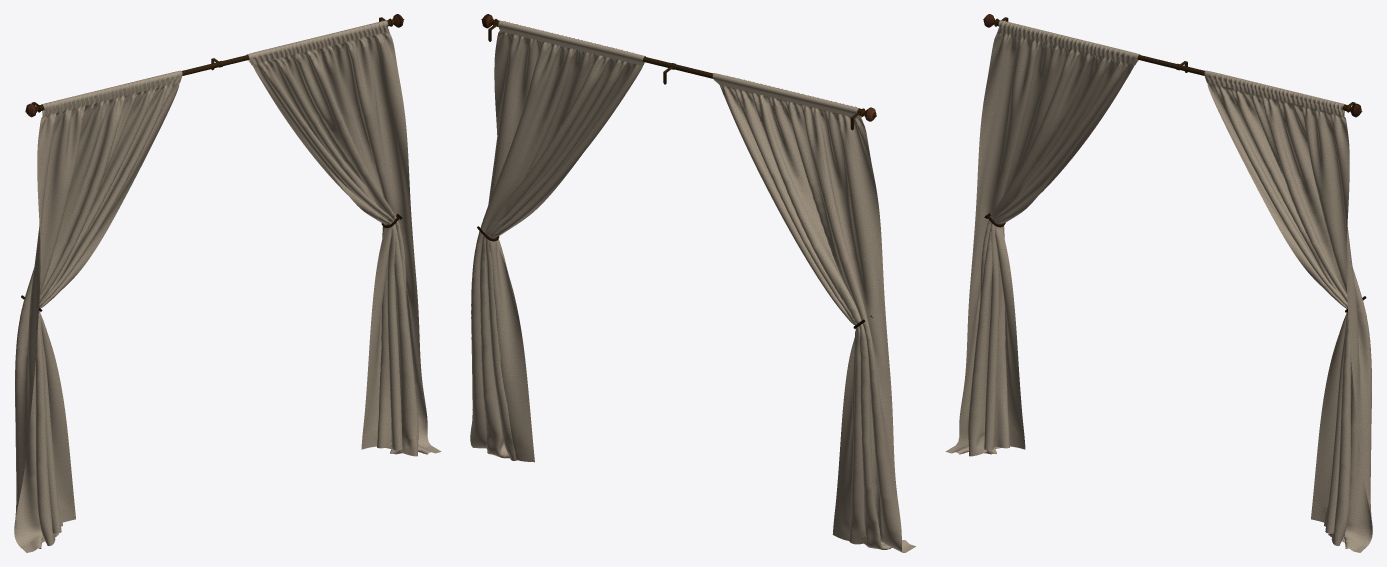
File: curtains.glb
3 views of the same model, side by side, from view 1: azimuth 30°, elevation 25°; view 2: azimuth 150°, elevation 25°; view 3: azimuth 330°, elevation 25° (orthographic). The views are drawn at different scales.
Parts seen in each view (by area): view 1: polySurface3332, polySurface3333, polySurface3140; view 2: polySurface3333, polySurface3332, polySurface3140; view 3: polySurface3333, polySurface3332, polySurface3140.
Boxes of the visible parts, <box> form: polySurface3332: <box>246,20,441,456</box>; polySurface3333: <box>14,70,182,552</box>; polySurface3140: <box>21,14,404,311</box>; polySurface3333: <box>712,73,915,552</box>; polySurface3332: <box>470,20,645,462</box>; polySurface3140: <box>477,14,876,328</box>; polySurface3333: <box>945,20,1140,456</box>; polySurface3332: <box>1204,70,1372,552</box>; polySurface3140: <box>983,14,1366,312</box>.
Size of the model in its own units: 233 by 229 by 27.5.
2 materials, 2 textured.
